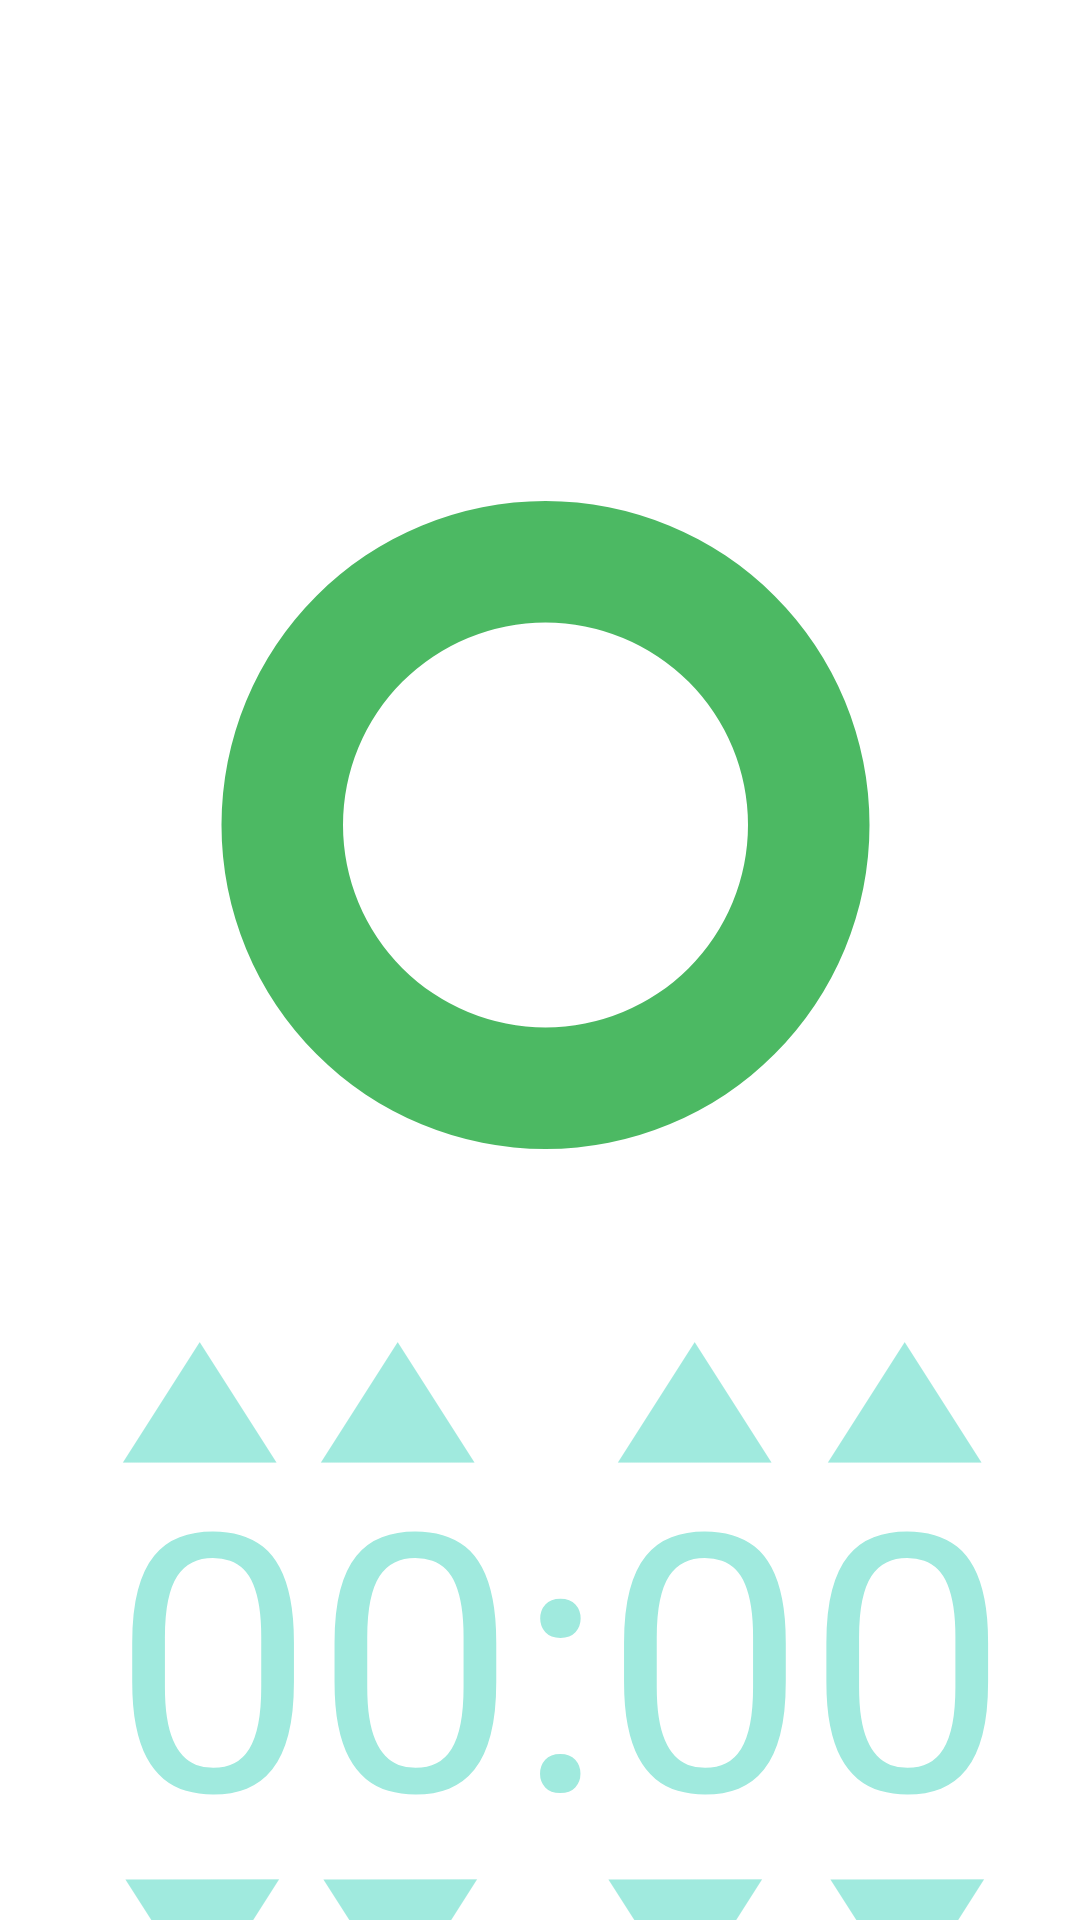

Named icons in this screenshot (1080px x 1920px) and their centers, [x,y]:
Button to increase the ones place of the timer hours: [397,1402]
Button to increase the ones place of the timer minutes: [904,1402]
Button to increase the tens place of the timer hours: [199,1402]
Button to increase the tens place of the timer minutes: [694,1402]
